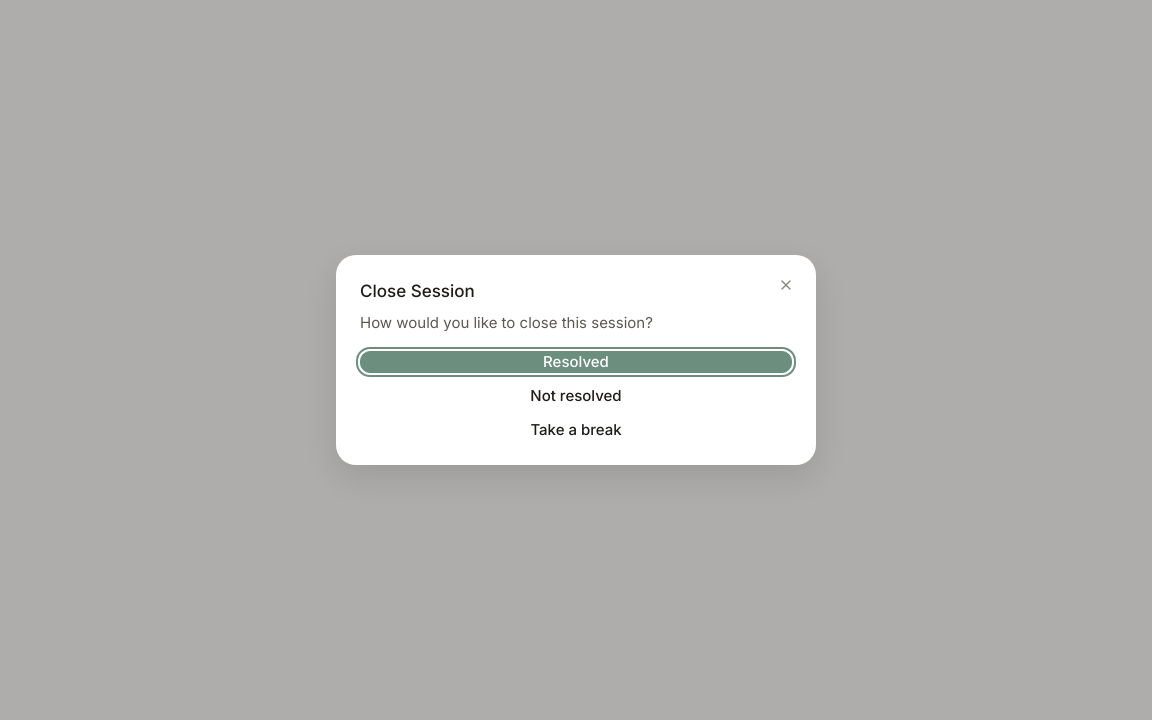
Test: ClosureModal — three-path closure flow › AC: Resolved path — textarea, info message, Propose Resolution / Cancel › shows textarea with 5 rows after selecting Resolved
The image size is (1152, 720).
Click the button "Resolved".
click(576, 362)  # box [360,351,792,373]
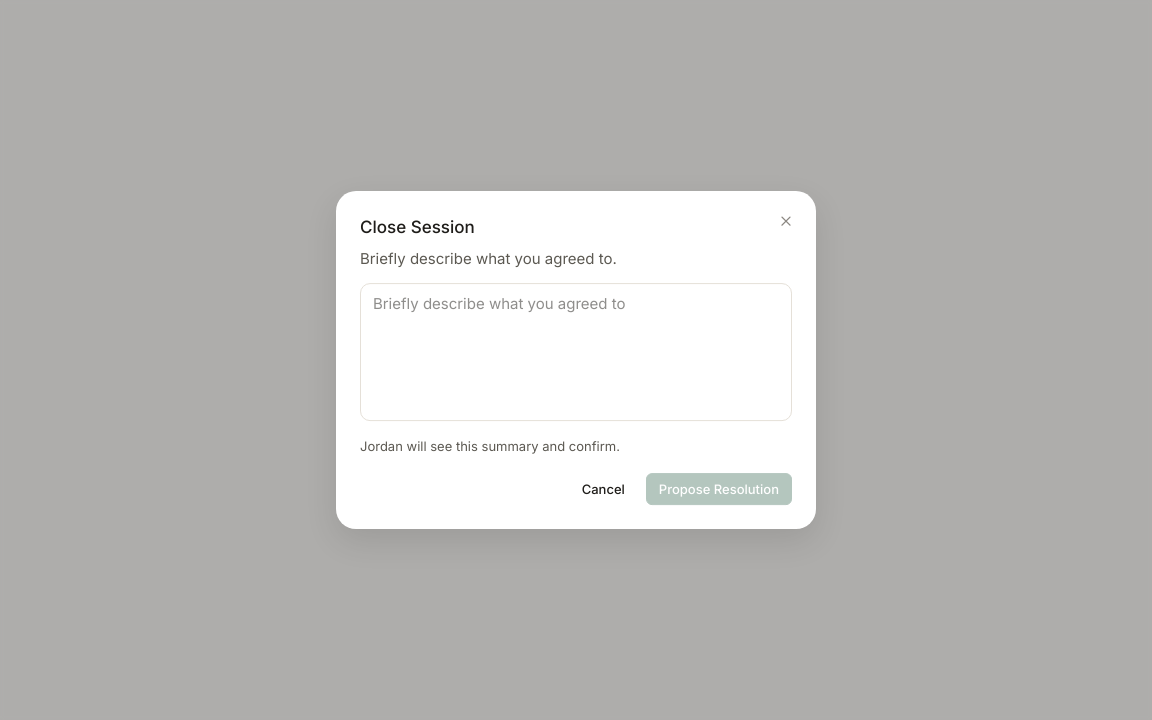
Now the text box is shown, box [360,283,792,421]
